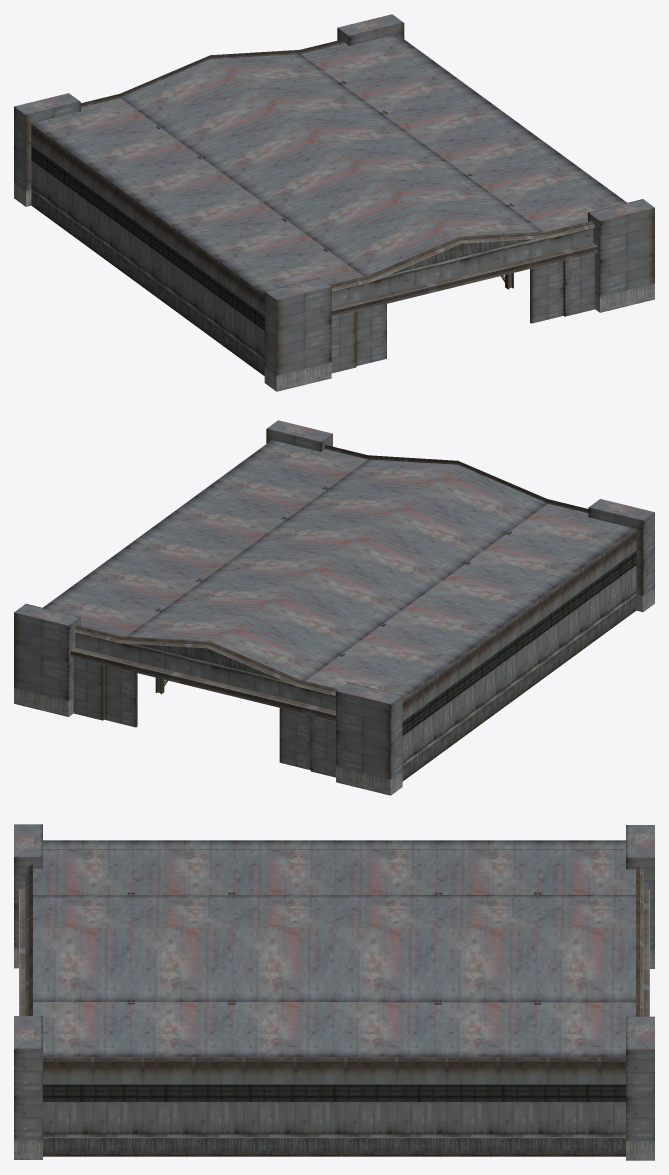
The model's file is ind-hangar.lod1.glb.
3 renders of one model, top to bottom at view 1: azimuth 30°, elevation 25°; view 2: azimuth 150°, elevation 25°; view 3: azimuth 270°, elevation 25°, orthographic. The views are drawn at different scales.
Parts seen in each view (by area): view 1: Industrial_Hangar_2_Industrial_Walls_FLR_1_0, Industrial_Hangar_2_Industrial_Windows_FLR_1_0; view 2: Industrial_Hangar_2_Industrial_Walls_FLR_1_0, Industrial_Hangar_2_Industrial_Windows_FLR_1_0; view 3: Industrial_Hangar_2_Industrial_Walls_FLR_1_0, Industrial_Hangar_2_Industrial_Windows_FLR_1_0.
Part boxes in pixels (x1,y1,x2,y2): Industrial_Hangar_2_Industrial_Walls_FLR_1_0: (14,14,654,391); Industrial_Hangar_2_Industrial_Windows_FLR_1_0: (31,145,264,330); Industrial_Hangar_2_Industrial_Walls_FLR_1_0: (14,420,654,795); Industrial_Hangar_2_Industrial_Windows_FLR_1_0: (402,550,636,735); Industrial_Hangar_2_Industrial_Walls_FLR_1_0: (14,824,654,1160); Industrial_Hangar_2_Industrial_Windows_FLR_1_0: (43,1084,625,1101).
Bounding box in the file's own units: 49.78 × 12.88 × 59.96.
2 materials, 2 textured.
